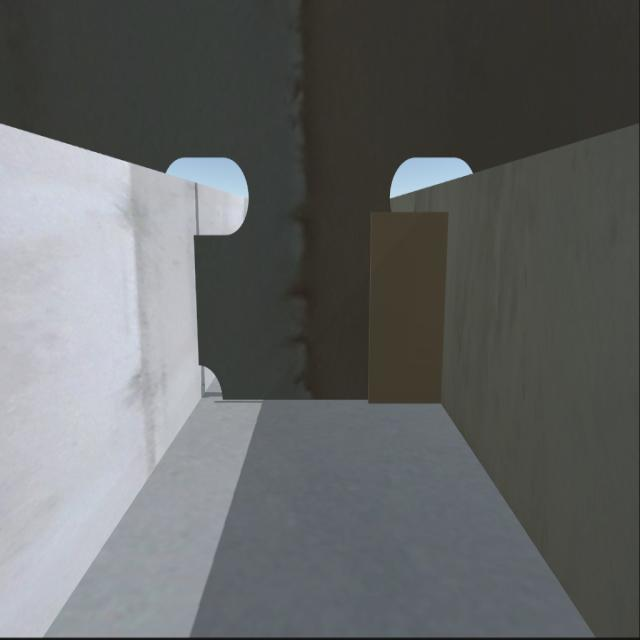fillet_hole: (200, 366, 225, 397)
fillet_yong_jeop_jang: (222, 399, 439, 404)
longi_yong_jeop_jang: (432, 220, 448, 401), (192, 240, 203, 366)
plate_CP01: (366, 211, 447, 398)
